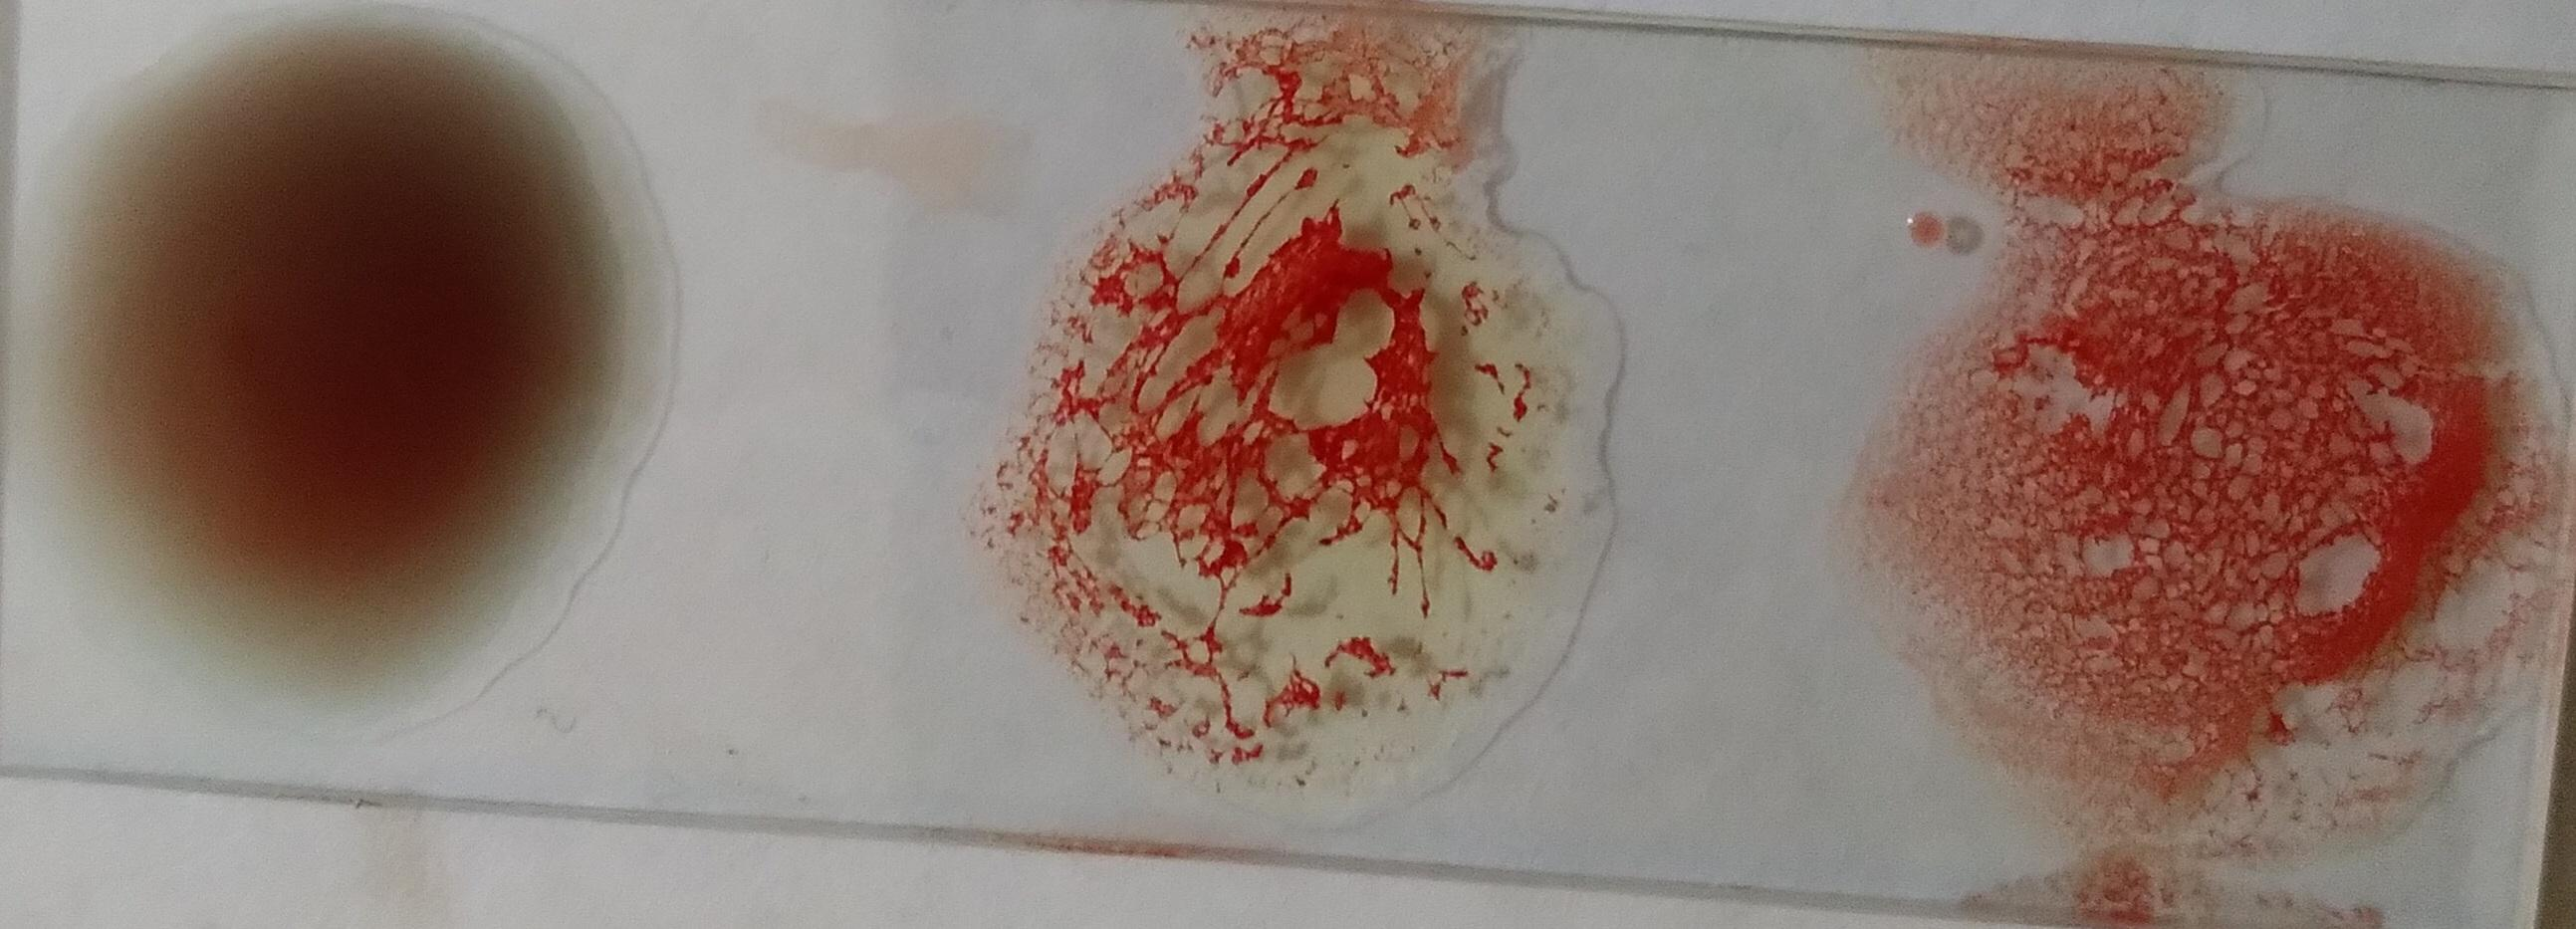B: (996, 48, 1600, 822)
D: (1883, 214, 2541, 839)
